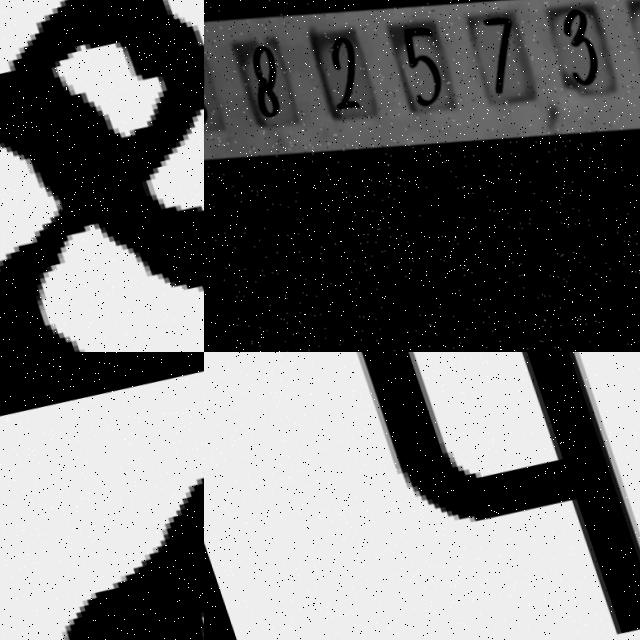2: (289, 16, 384, 124)
3: (522, 0, 623, 99)
5: (364, 4, 467, 122)
6: (604, 0, 640, 93)
7: (444, 0, 545, 107)
8: (0, 0, 204, 352), (211, 25, 303, 133), (204, 31, 231, 142)
Q: (286, 352, 640, 640)
